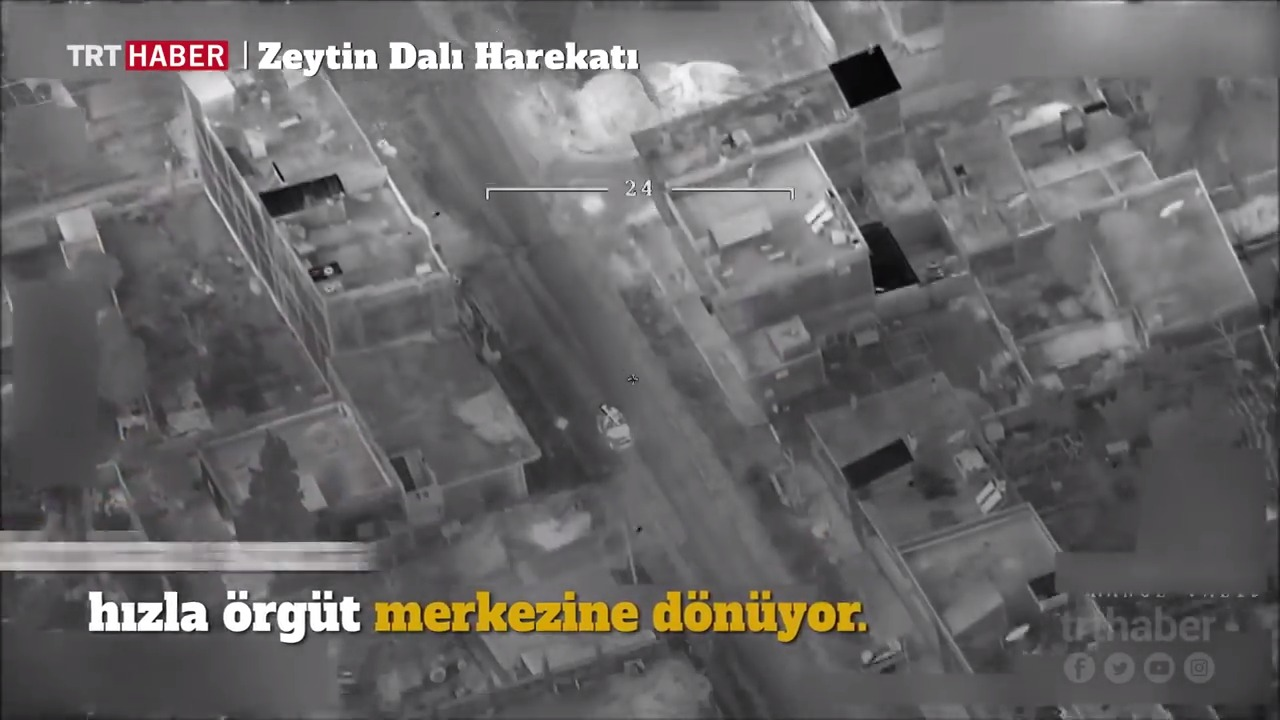arac: (592, 397, 643, 452)
